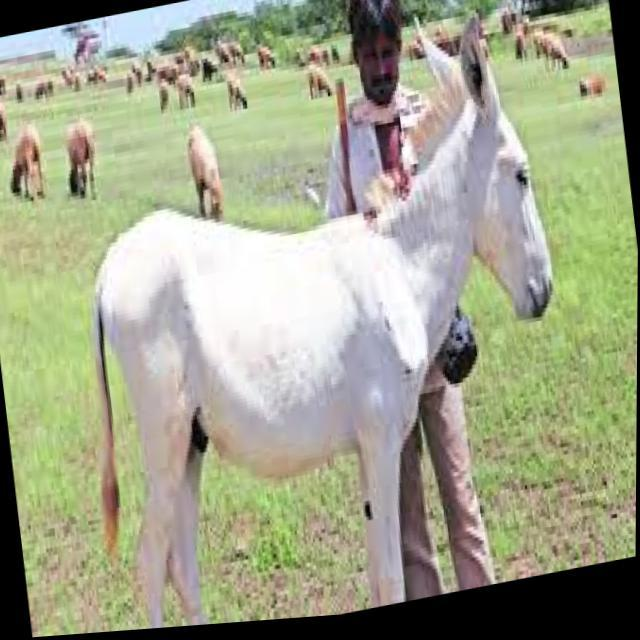Donkey: (39, 8, 592, 638)
